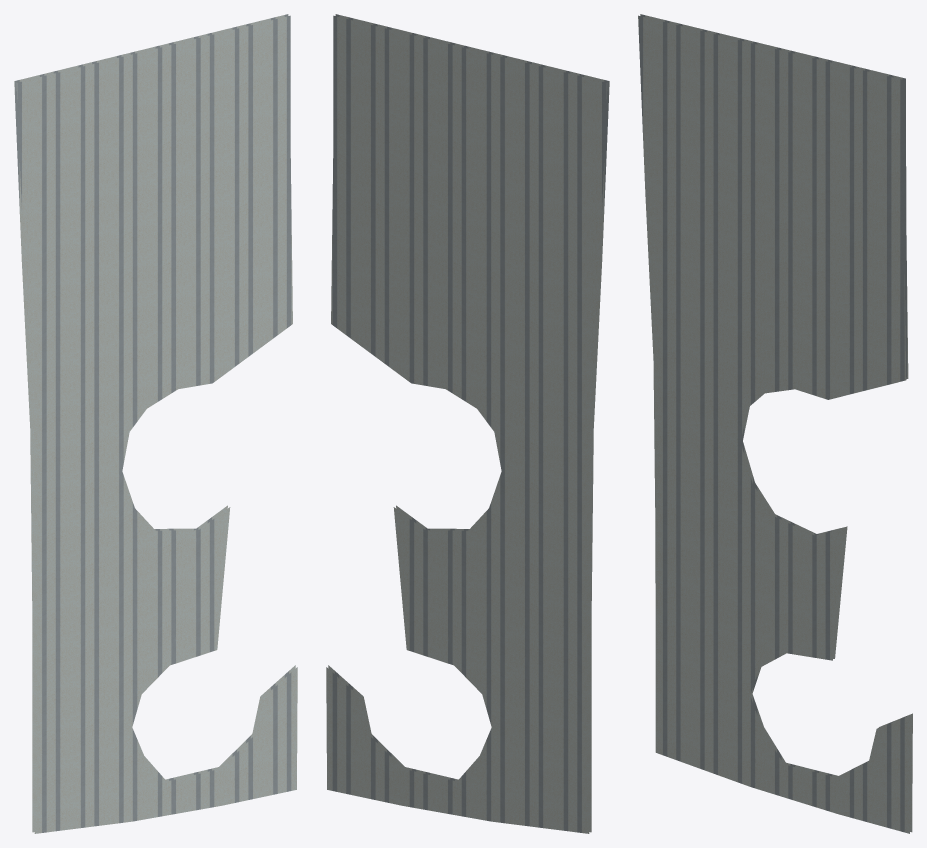
The model's file is floor_63.obj.
3 views of the same model, side by side, from view 1: azimuth 30°, elevation 25°; view 2: azimuth 150°, elevation 25°; view 3: azimuth 330°, elevation 25° (orthographic). The views are drawn at different scales.
Visible parts, largest first — view 1: floor_63; view 2: floor_63; view 3: floor_63.
Boxes of the visible parts, x1,y1,x2,y2 form: floor_63: (14, 14, 297, 833); floor_63: (326, 14, 609, 833); floor_63: (638, 14, 912, 833).
Size of the model in its own units: 7.3 by 19.25 by 0.1.
Materials: 1 (1 with a texture image).
